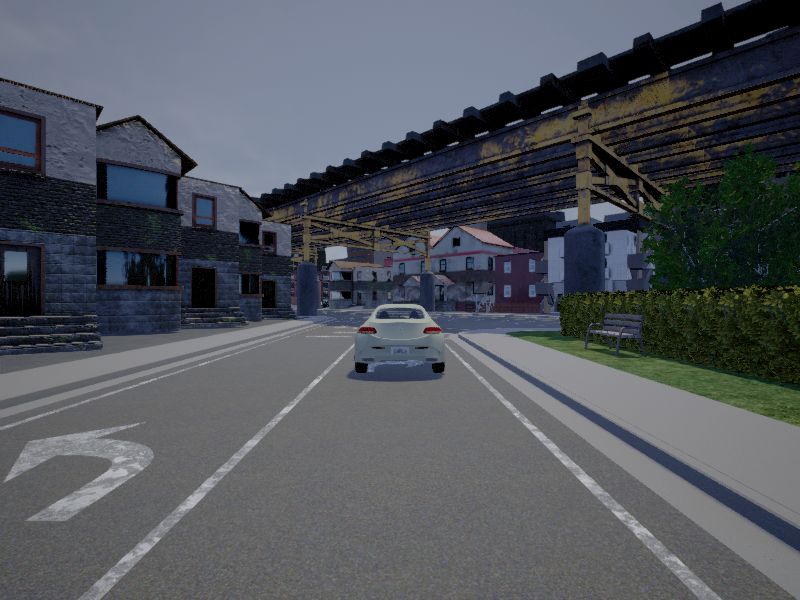Benign: (355, 302, 448, 374)
